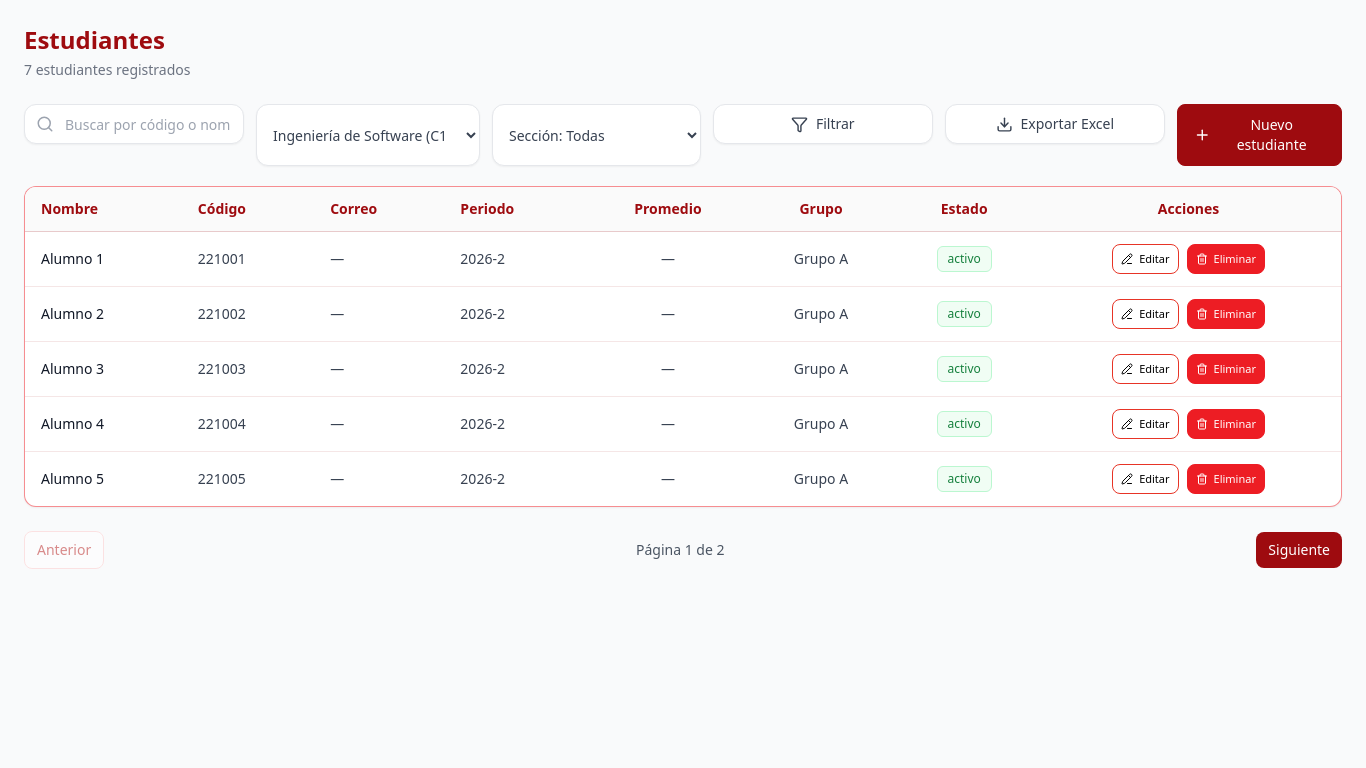
Test: StudentsPage — carga, filtros y paginación › pagina de a 5; Anterior/Siguiente se deshabilitan en los extremos
Expected: the text "Página 1 de 2" is shown, [636, 540, 724, 560]
Expected: the button "Anterior" is disabled, [24, 531, 104, 569]
Click the button "Siguiente".
click(1299, 550)  # box [1256, 532, 1342, 568]
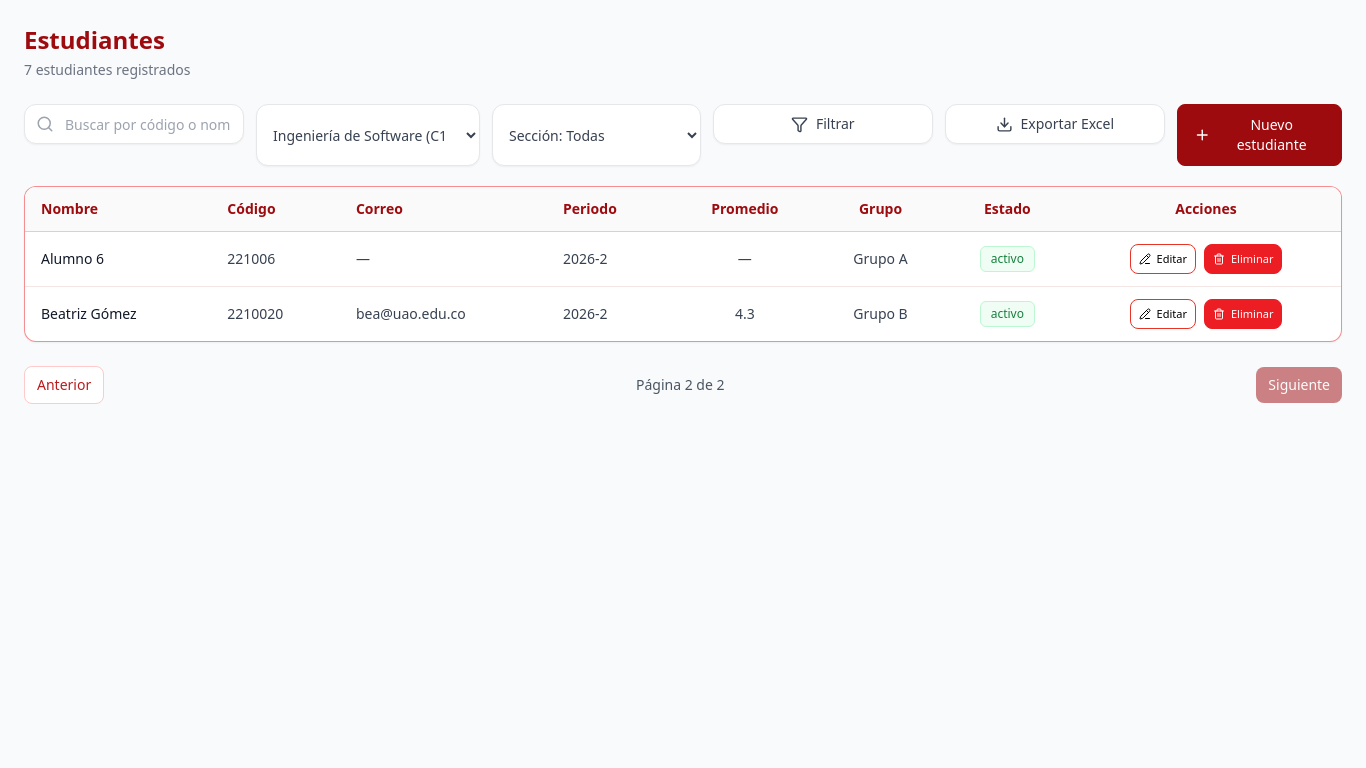
Result: the text "Página 2 de 2" is shown at [636, 375, 724, 395]
Result: the button "Siguiente" is disabled at [1256, 367, 1342, 403]
